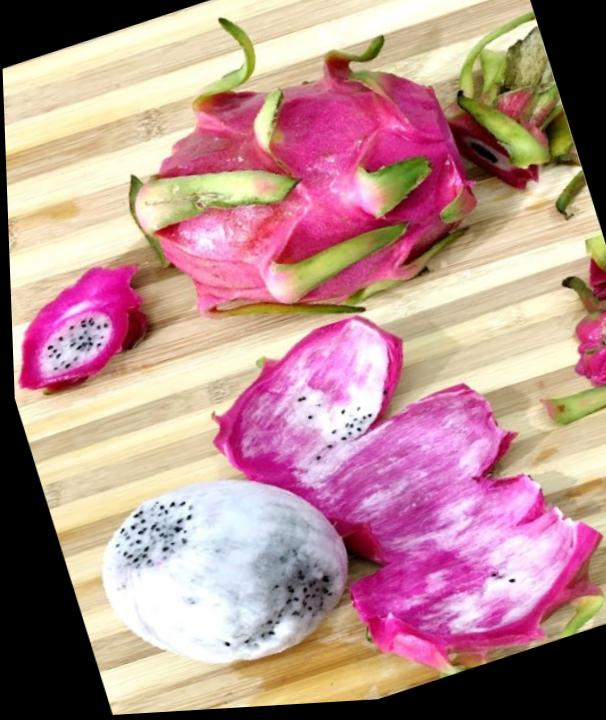organic: (184, 255, 606, 710), (79, 0, 505, 379), (83, 442, 370, 702), (10, 252, 167, 406)
